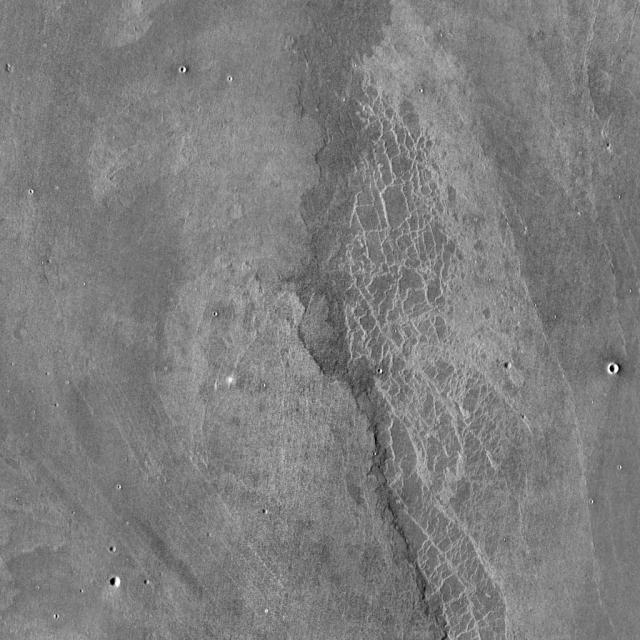crater: (17, 324, 31, 337), (112, 578, 120, 586), (610, 366, 618, 374), (505, 362, 512, 370), (109, 546, 116, 554)
